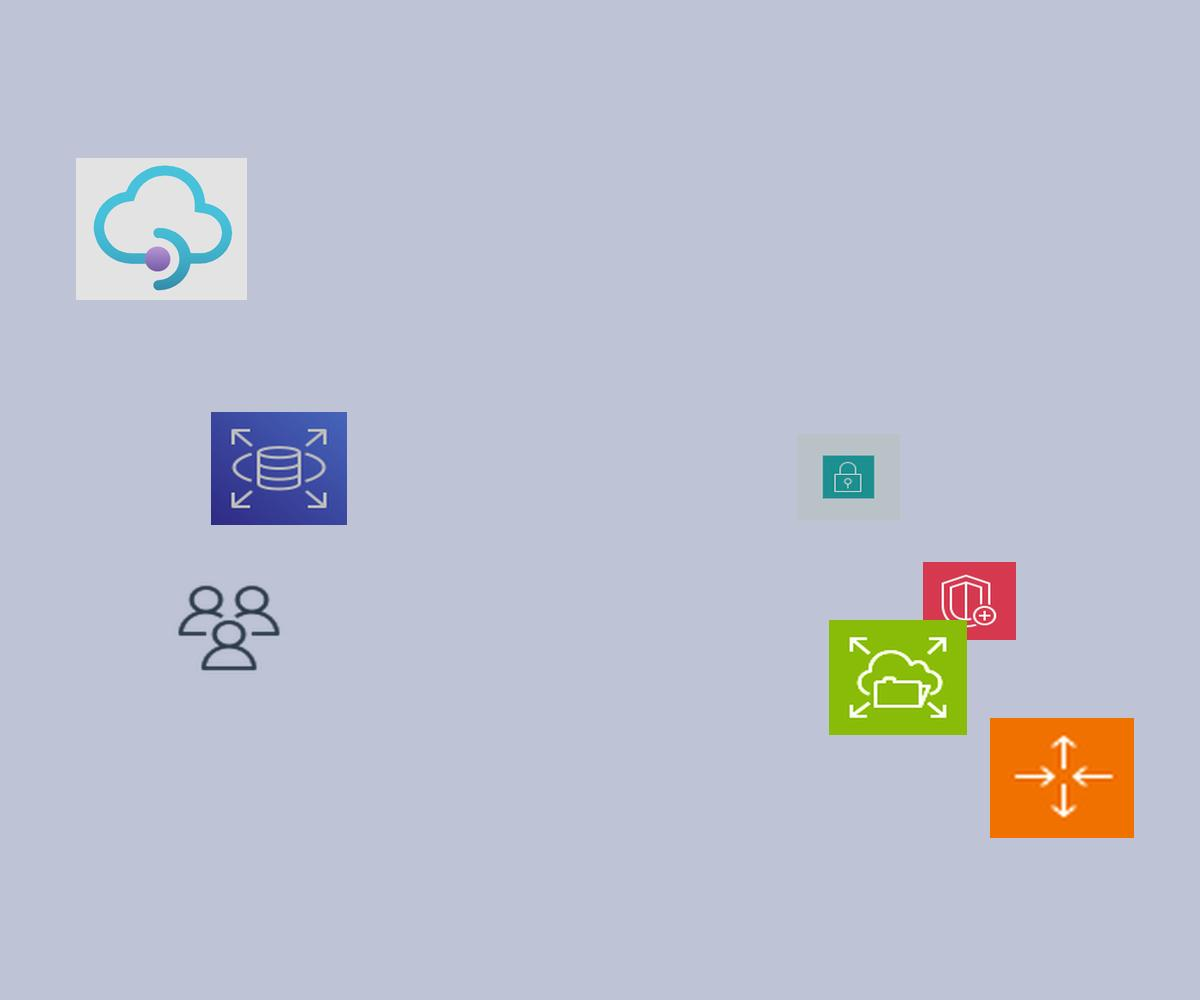AWS-EFS: (829, 620, 967, 735)
AWS-Private-subnet: (797, 434, 900, 520)
AWS-RDS: (211, 412, 347, 525)
AWS-Res_Users: (174, 582, 284, 674)
AWS-Scaling-group: (990, 718, 1134, 838)
AWS-Shield: (923, 562, 1016, 640)
Azure_api_gateway: (76, 158, 247, 300)
